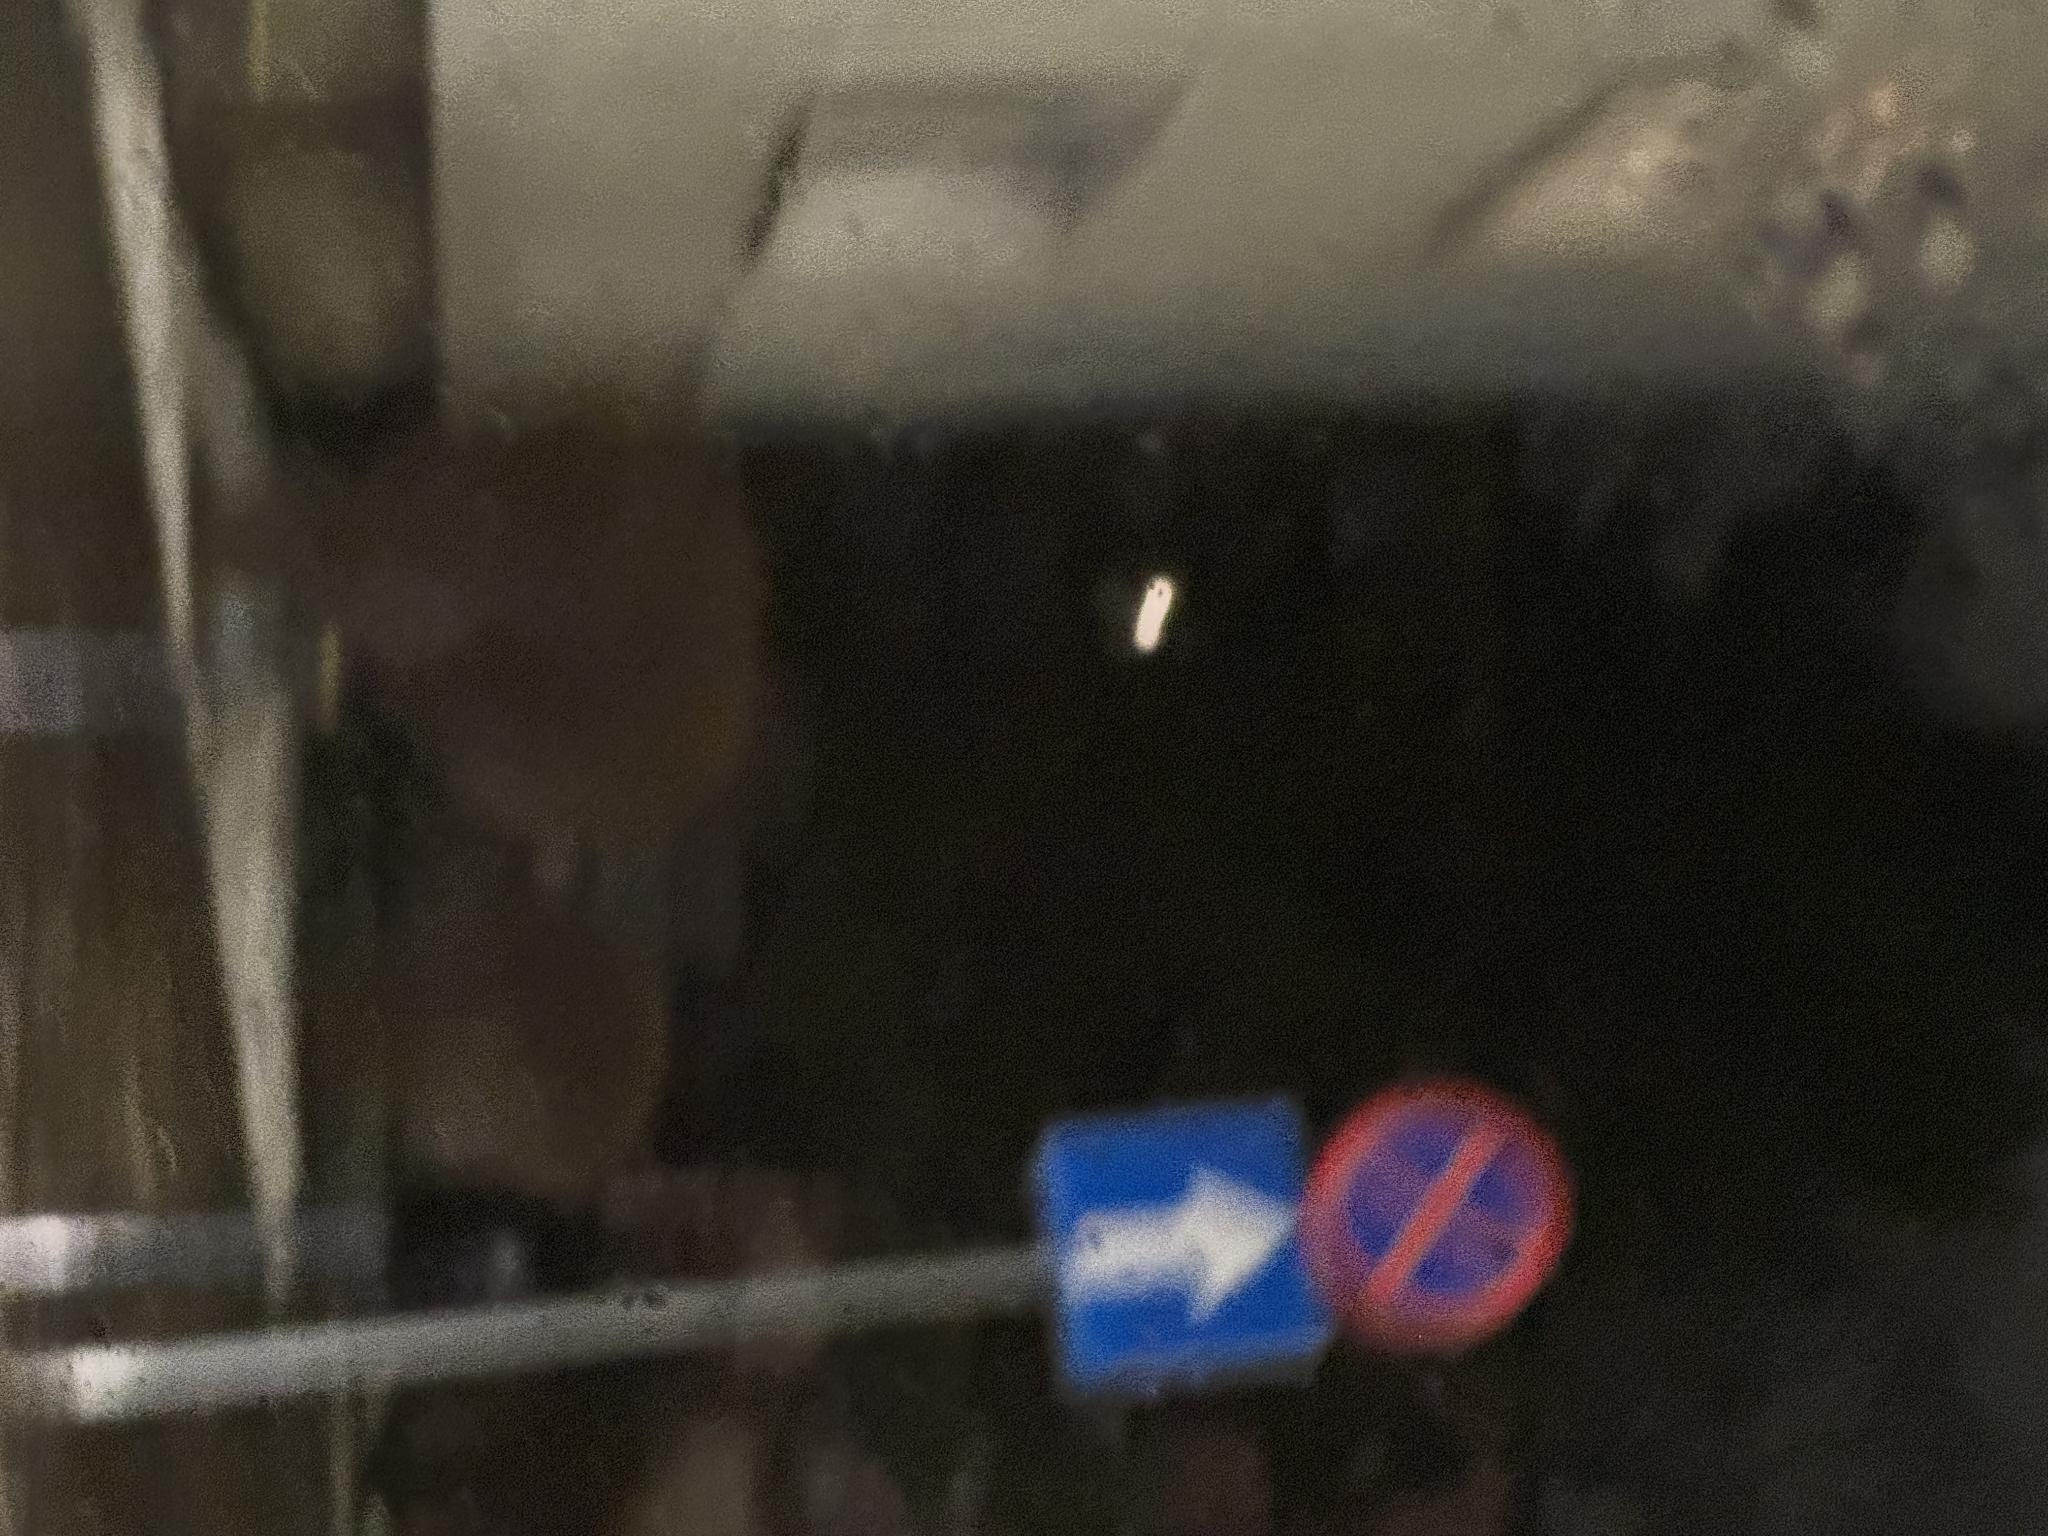information: (1593, 718, 1906, 1020)
prohibitory: (1580, 470, 1871, 752)
